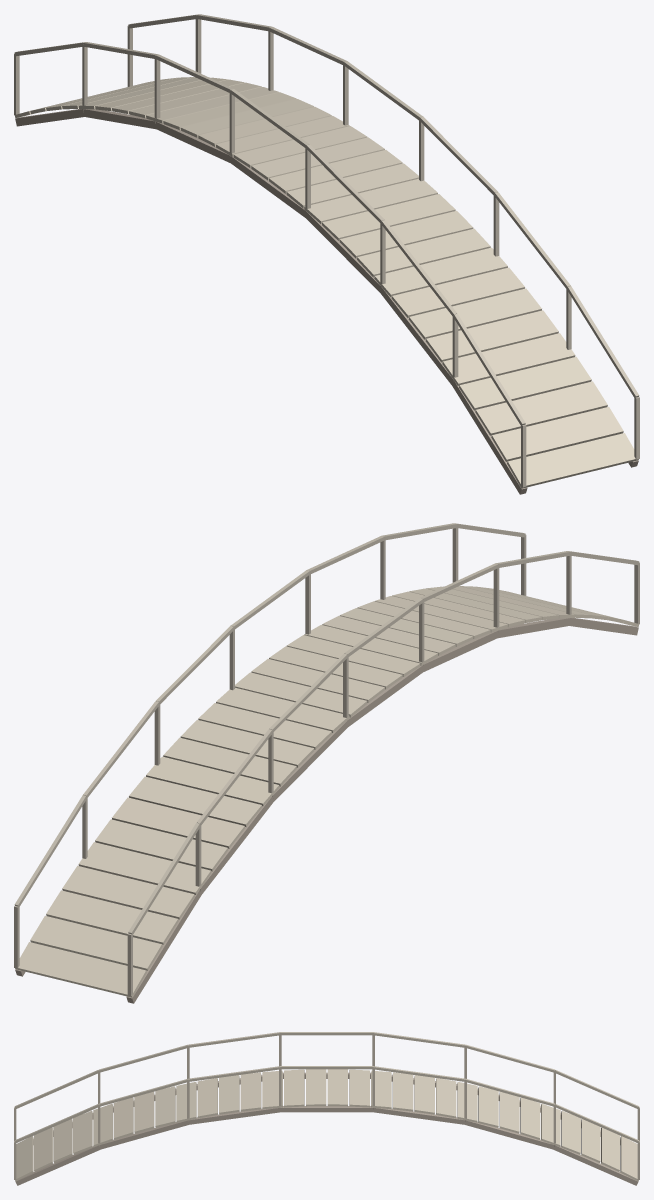
Rendered from Bridge.glb.
3 renders of one model, top to bottom at view 1: azimuth 30°, elevation 25°; view 2: azimuth 150°, elevation 25°; view 3: azimuth 270°, elevation 25°, orthographic. The views are drawn at different scales.
Parts seen in each view (by area): view 1: arched_bridge; view 2: arched_bridge; view 3: arched_bridge.
Boxes of the visible parts, left/top/right/bottom form: arched_bridge: left=14, top=14, right=639, bottom=494; arched_bridge: left=14, top=523, right=639, bottom=1003; arched_bridge: left=14, top=1032, right=639, bottom=1185.
Size of the model in its own units: 2 by 3.15 by 15.06.
